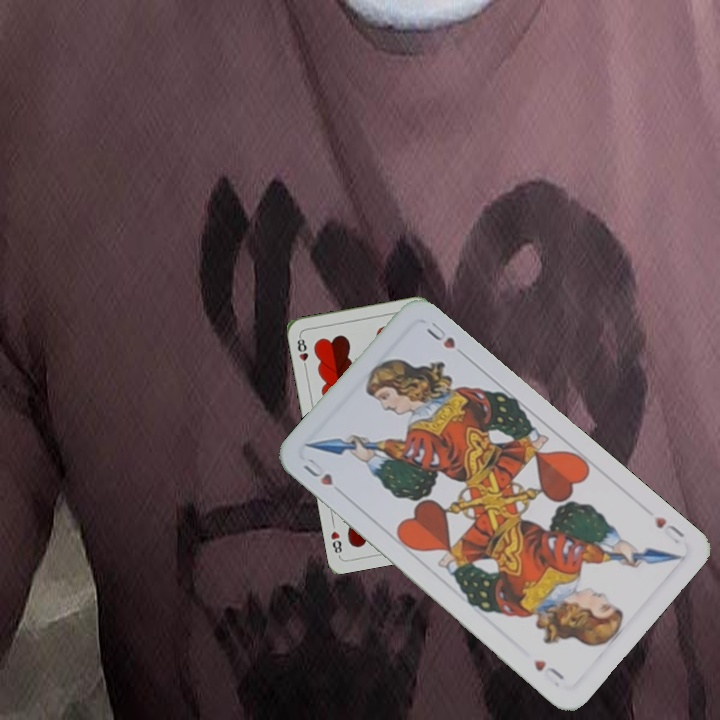H8: (293, 332, 311, 372)
HU: (299, 454, 336, 489), (650, 512, 687, 547)
